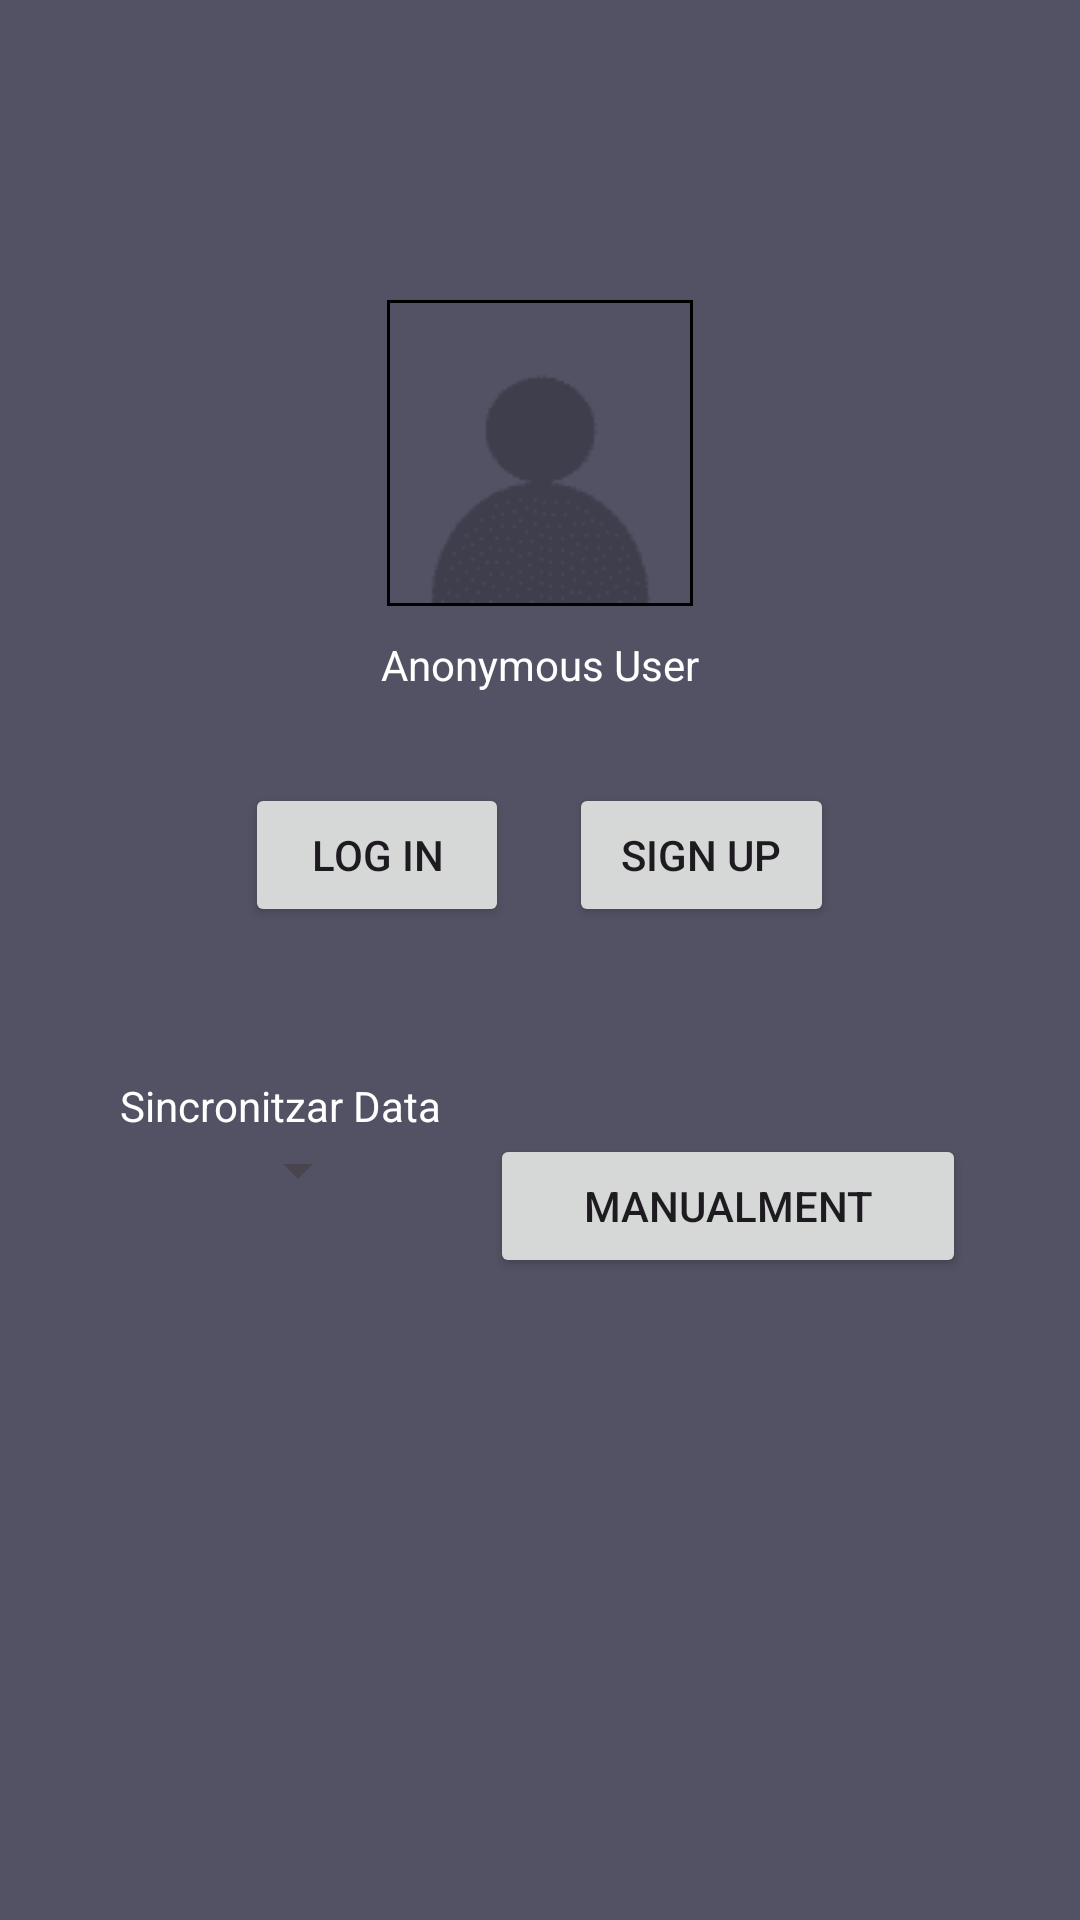

Named icons in this screenshot (1080px×1920px) and their centers, (x,y):
userimage optimized: (540,453)
